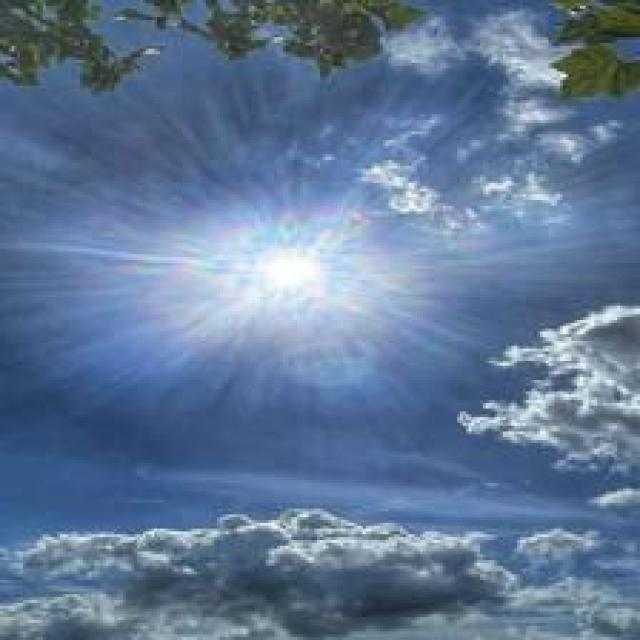sun: (258, 248, 322, 299)
